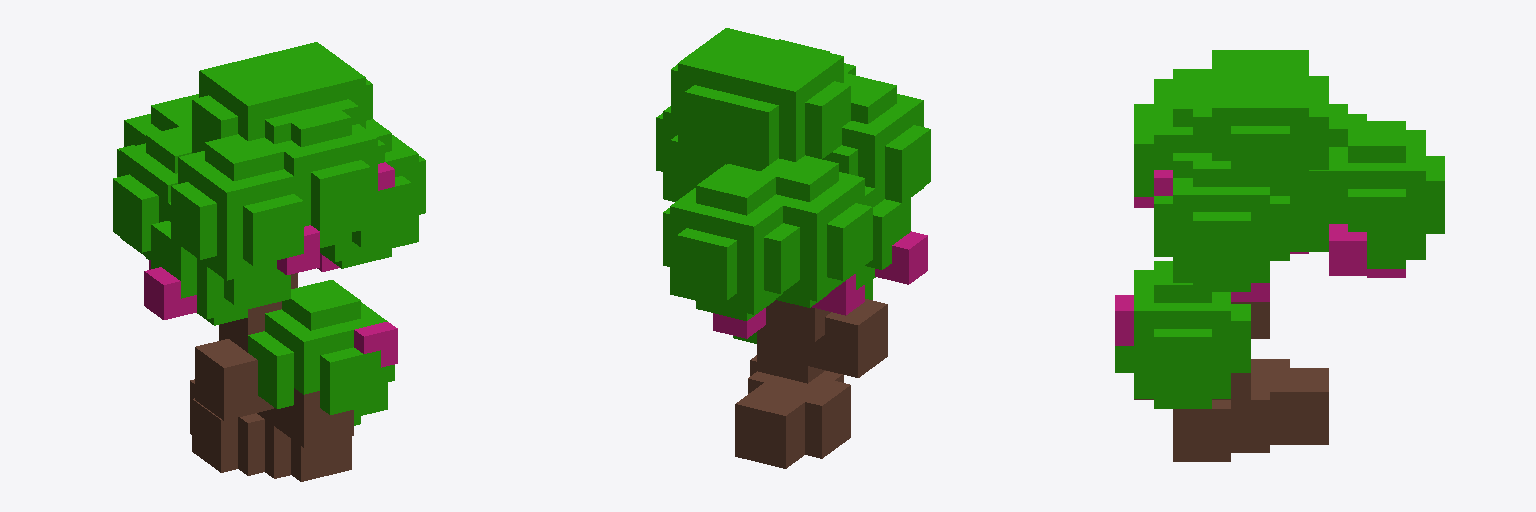
3 renders of one model, left to right at view 1: azimuth 30°, elevation 25°; view 2: azimuth 150°, elevation 25°; view 3: azimuth 270°, elevation 25°, orthographic.
Bounding box in the file's own units: 15 × 21 × 17.
1 materials, 1 textured.